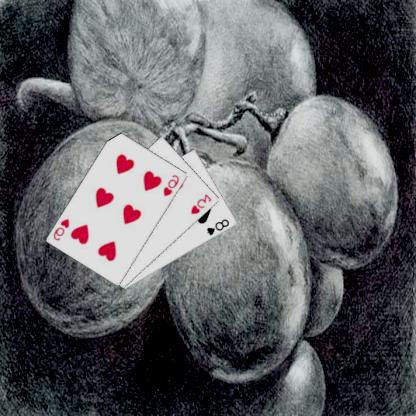3H: (190, 191, 214, 216)
6H: (52, 215, 72, 242), (162, 172, 183, 197)
8S: (206, 216, 233, 237)
